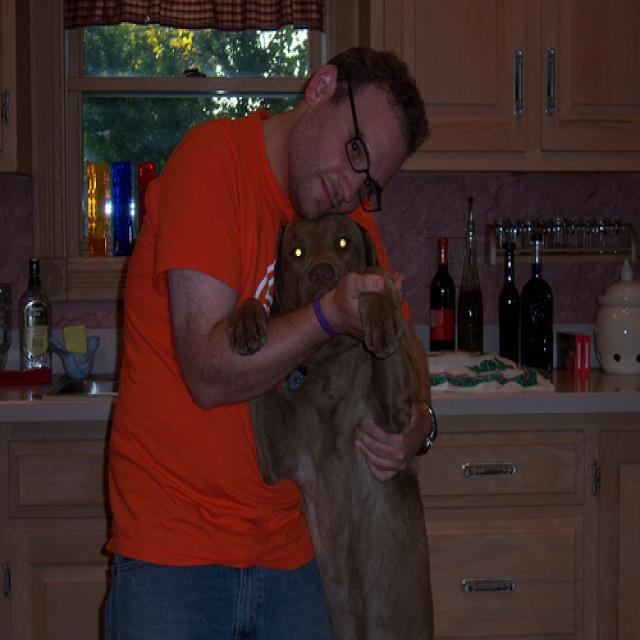Bottle: (15, 241, 54, 404), (424, 212, 467, 352), (456, 174, 484, 373), (491, 229, 523, 365), (533, 224, 561, 378)
People: (68, 21, 422, 640)
dog: (240, 223, 455, 640)
